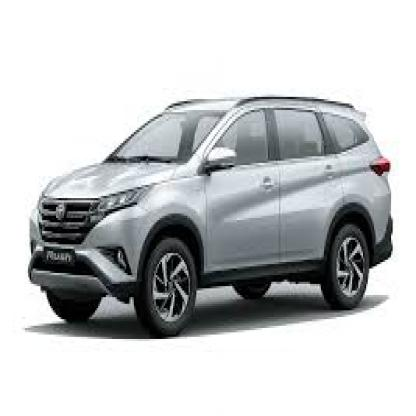jeep: (25, 82, 394, 341)
